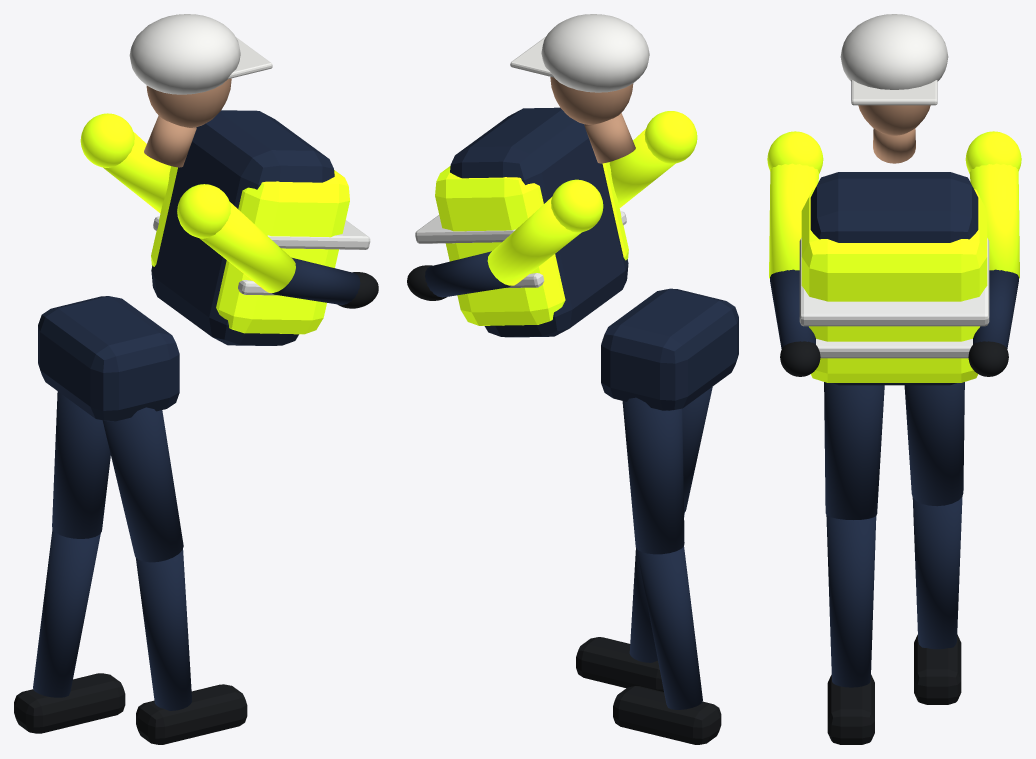
File: operator.glb
The picture shows the model from 3 angles, left to right: view 1: azimuth 30°, elevation 25°; view 2: azimuth 150°, elevation 25°; view 3: azimuth 270°, elevation 25°; orthographic projection. The views are drawn at different scales.
Visible parts, largest first — view 1: operator; view 2: operator; view 3: operator.
Part boxes in pixels (<box>): operator: <box>14,14,378,744</box>; operator: <box>407,14,738,744</box>; operator: <box>767,14,1021,744</box>.
Bounding box in the file's own units: 0.7961 × 1.82 × 0.59.
